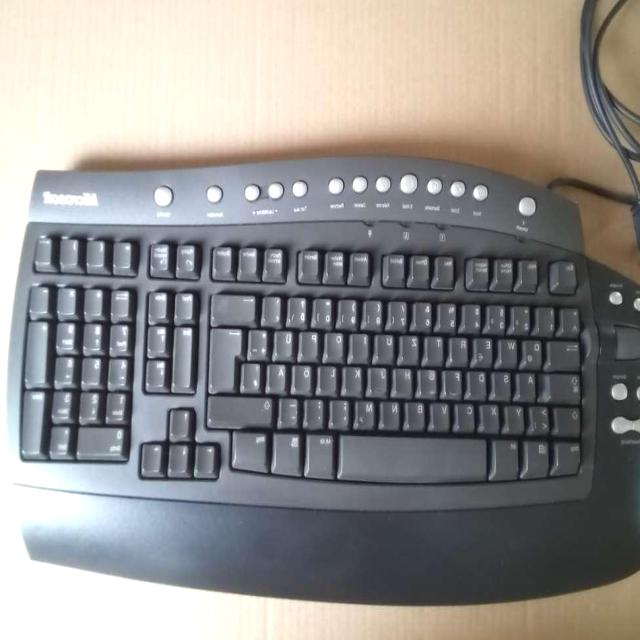0: (316, 294, 336, 325)
1: (539, 303, 558, 334)
2: (515, 302, 533, 331)
3: (491, 301, 509, 330)
4: (466, 300, 484, 329)
5: (441, 299, 460, 328)
6: (417, 297, 436, 327)
7: (390, 297, 411, 327)
8: (366, 296, 386, 327)
9: (341, 295, 361, 326)
a: (521, 368, 539, 399)
accent: (266, 292, 285, 322)
ae: (271, 360, 289, 390)
alt-left: (496, 435, 521, 477)
altgr-right: (309, 430, 339, 476)
b: (409, 397, 428, 428)
c: (460, 399, 478, 428)
caret: (564, 304, 583, 333)
comma: (334, 395, 352, 426)
d: (472, 367, 490, 396)
del: (214, 290, 260, 321)
e: (477, 333, 496, 364)
enter: (212, 324, 247, 390)
f: (447, 366, 465, 395)
g: (422, 365, 440, 393)
h: (397, 364, 416, 393)
hash: (246, 359, 264, 389)
i: (354, 329, 372, 358)
j: (372, 363, 390, 392)
k: (347, 362, 365, 392)
keyboard: (13, 154, 611, 512)
l: (322, 362, 340, 392)
less: (533, 401, 553, 431)
m: (358, 397, 378, 427)
minus: (284, 393, 302, 424)
n: (384, 397, 403, 427)
o: (330, 328, 348, 357)
oe: (297, 361, 316, 391)
p: (303, 326, 323, 357)
plus: (252, 325, 272, 356)
point: (308, 394, 327, 425)
q: (527, 336, 546, 366)
r: (453, 333, 472, 363)
s: (497, 368, 515, 398)
shift-left: (556, 404, 583, 435)
shift-lock: (543, 369, 583, 401)
shift-right: (209, 391, 277, 425)
space: (343, 430, 489, 482)
ss: (291, 293, 312, 324)
strg-left: (559, 439, 583, 473)
strg-right: (234, 428, 272, 470)
t: (428, 332, 446, 361)
tab: (552, 336, 582, 366)
u: (378, 330, 397, 360)
ue: (278, 325, 298, 357)
v: (435, 397, 453, 428)
w: (503, 334, 521, 363)
x: (484, 399, 502, 429)
y: (509, 401, 527, 430)
z: (404, 331, 422, 360)
